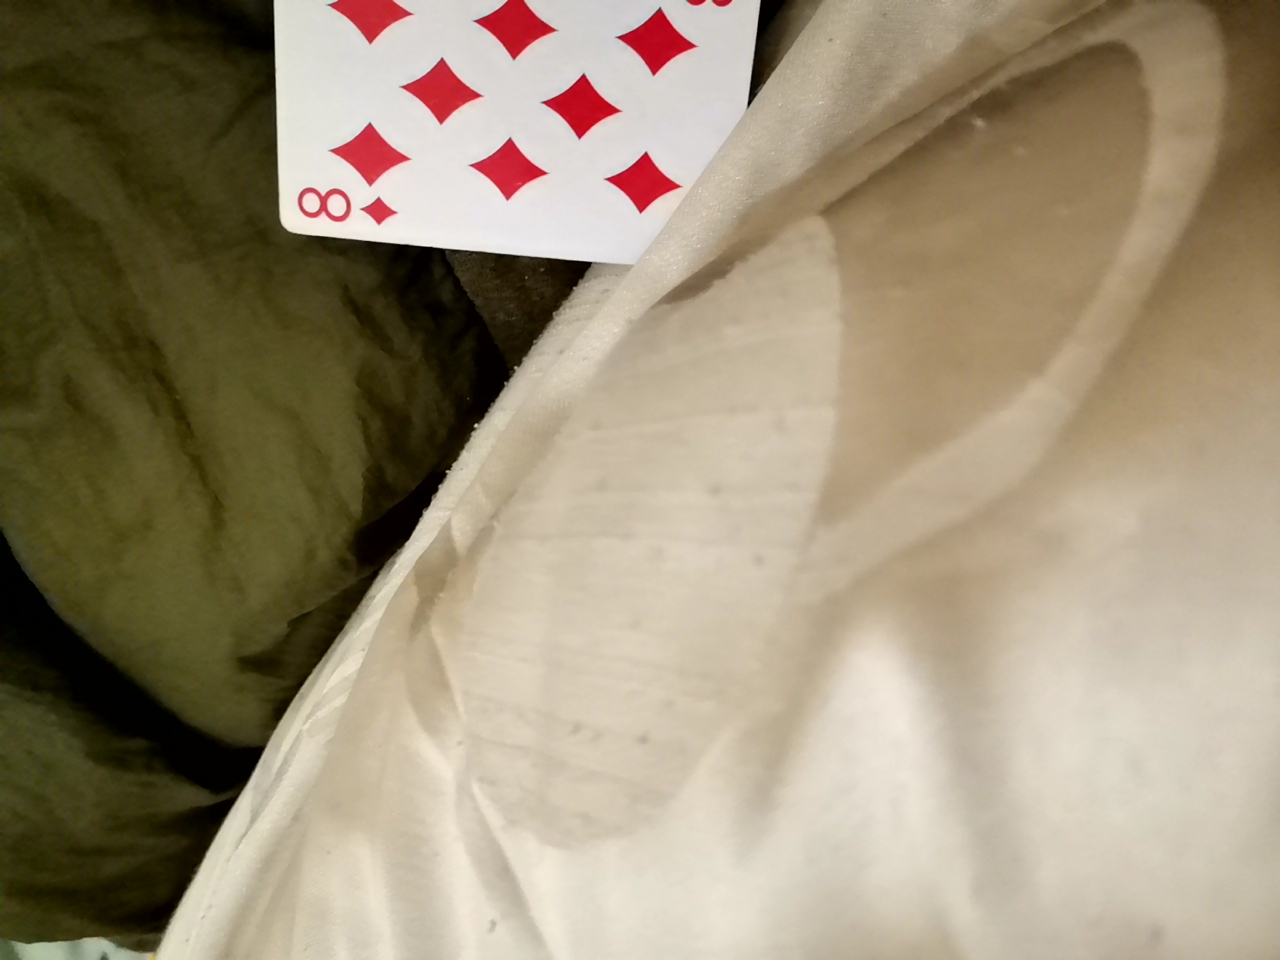fk 8: (242, 0, 762, 289)
